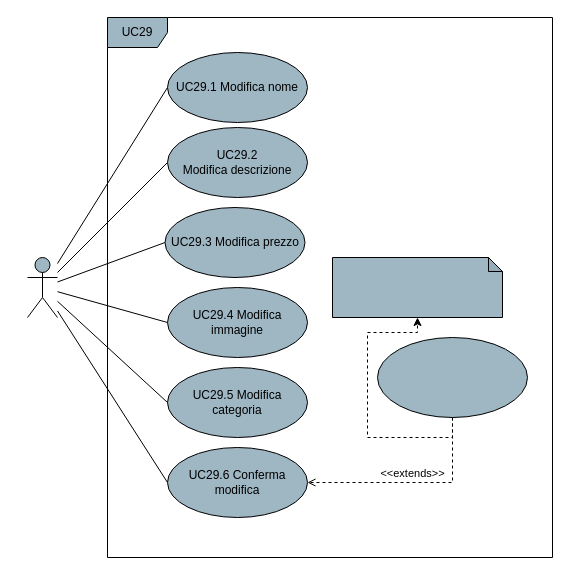
The diagram is 570 pixels wide and 575 high, and some of its shapes have lost their labels. The shapes that lost their labels are listed below. From the top down, each one's centre as x and y in pixels, then its label:
At (x=42, y=287): "Venditore".
At (x=417, y=287): "Condizione: Nessun campo dati modificato nel form di modifica".
At (x=452, y=377): "UC29.7 Visualizzazione errore nessuna modifica".
